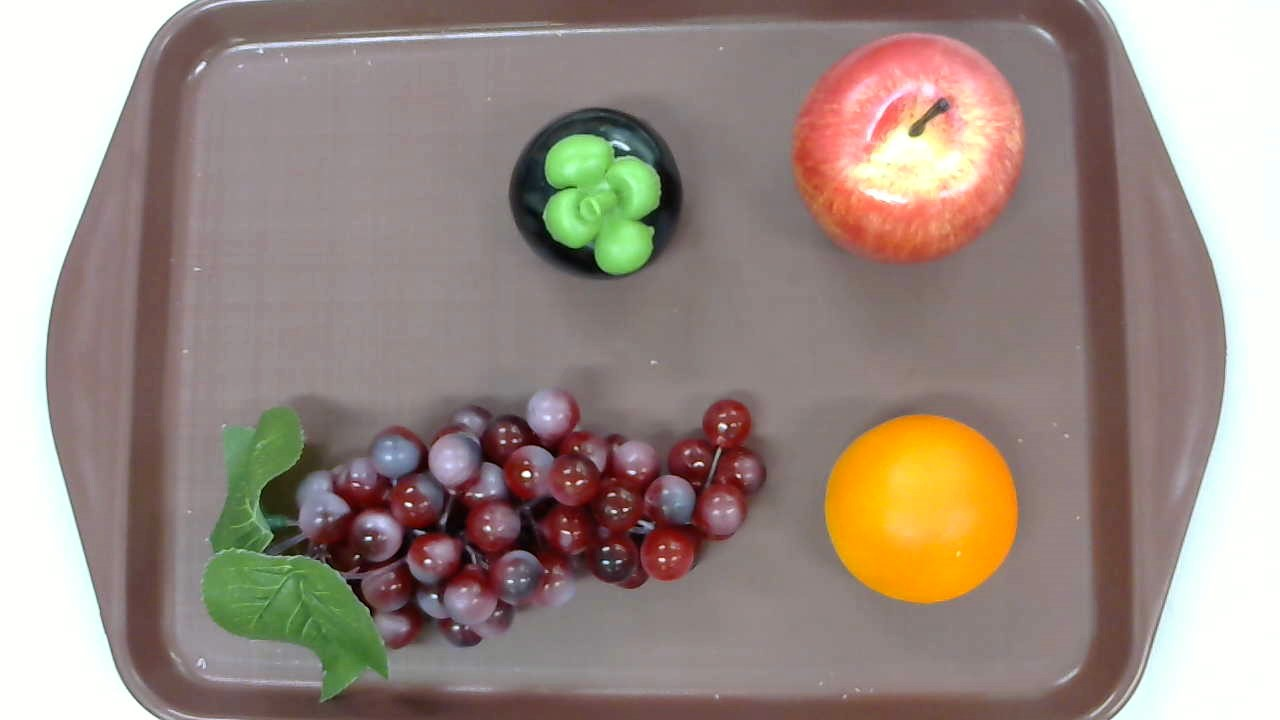bun: (824, 414, 1019, 603)
grape: (199, 387, 769, 703)
mangosteen: (508, 107, 684, 283)
red apple: (790, 32, 1024, 266)
